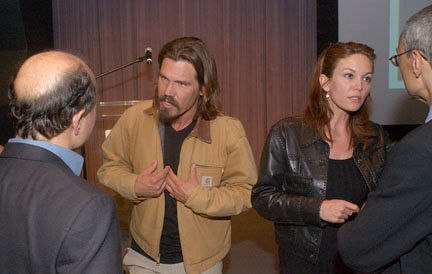person: (96, 36, 260, 274), (251, 41, 397, 274), (1, 50, 121, 274), (337, 4, 432, 274)
